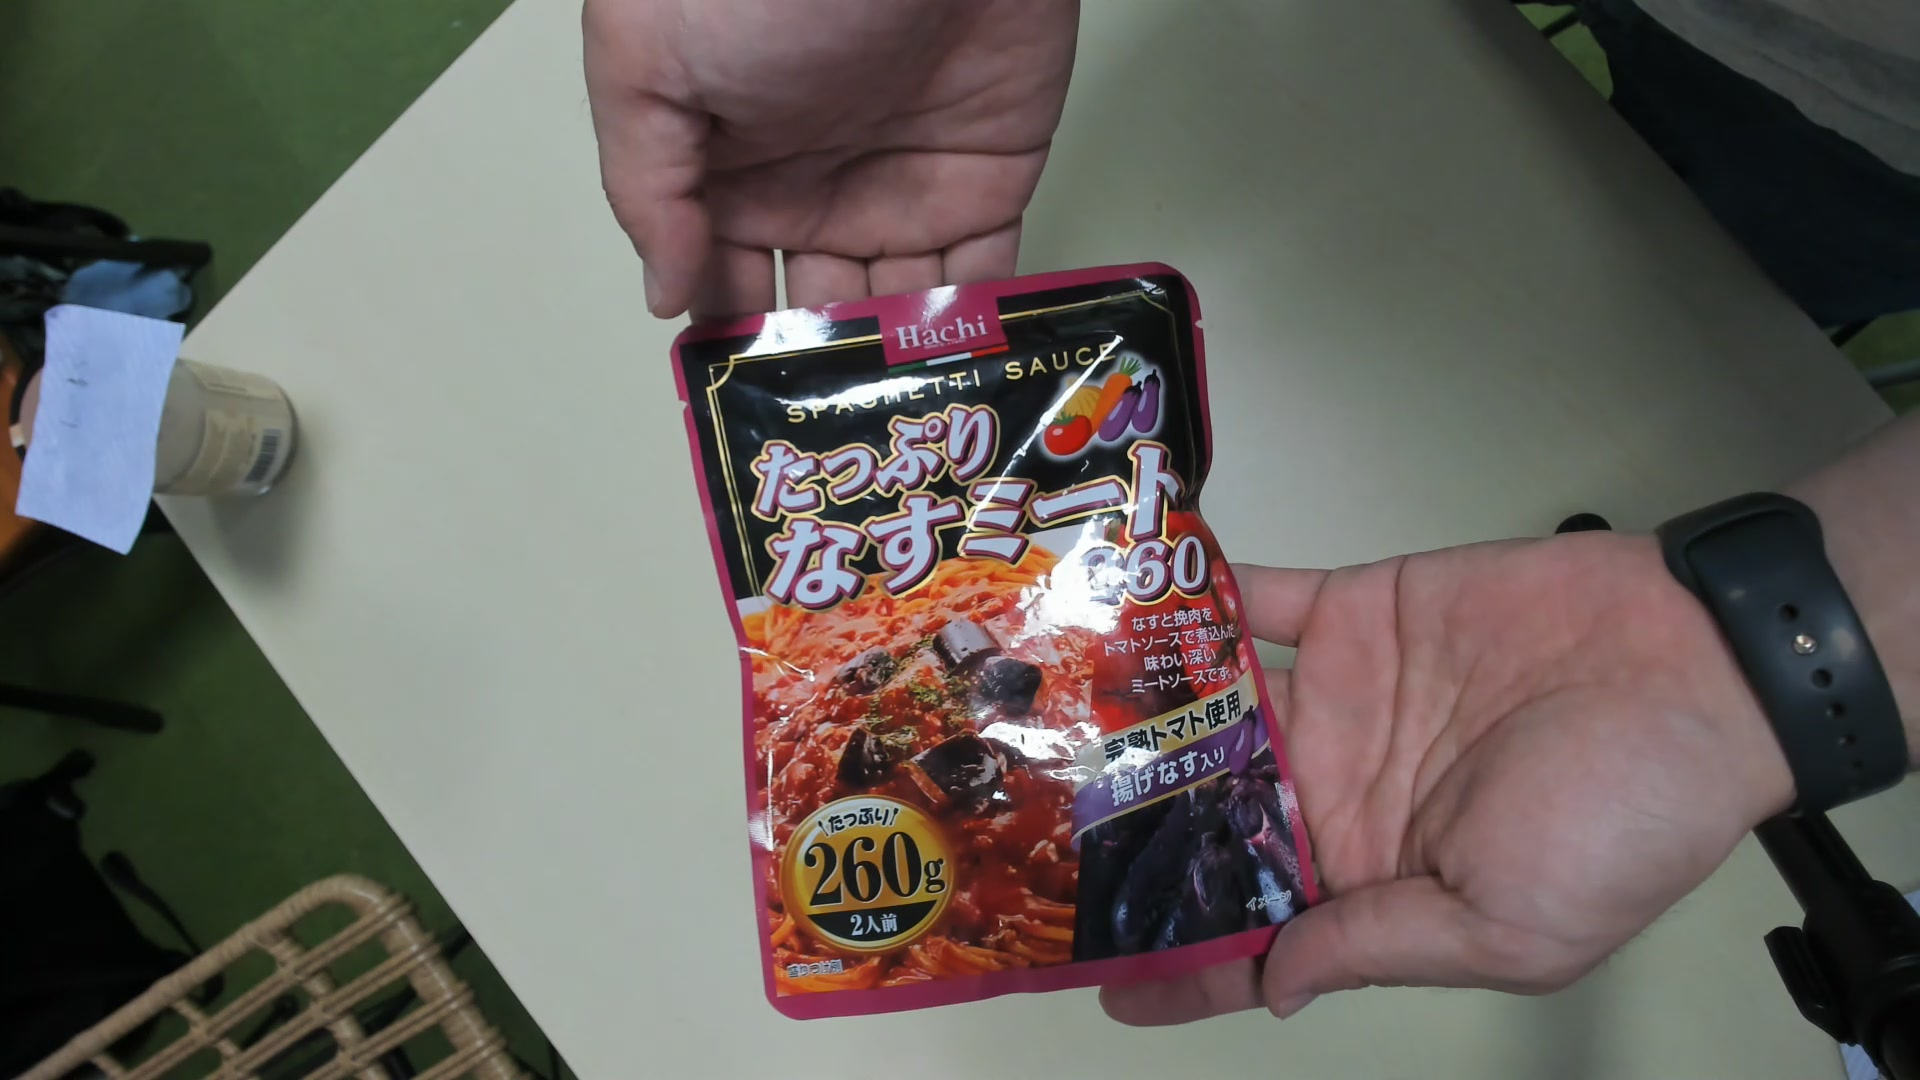PastaSauce_200-299g_NonHalal_NonHealthy: (674, 287, 1302, 1007)
